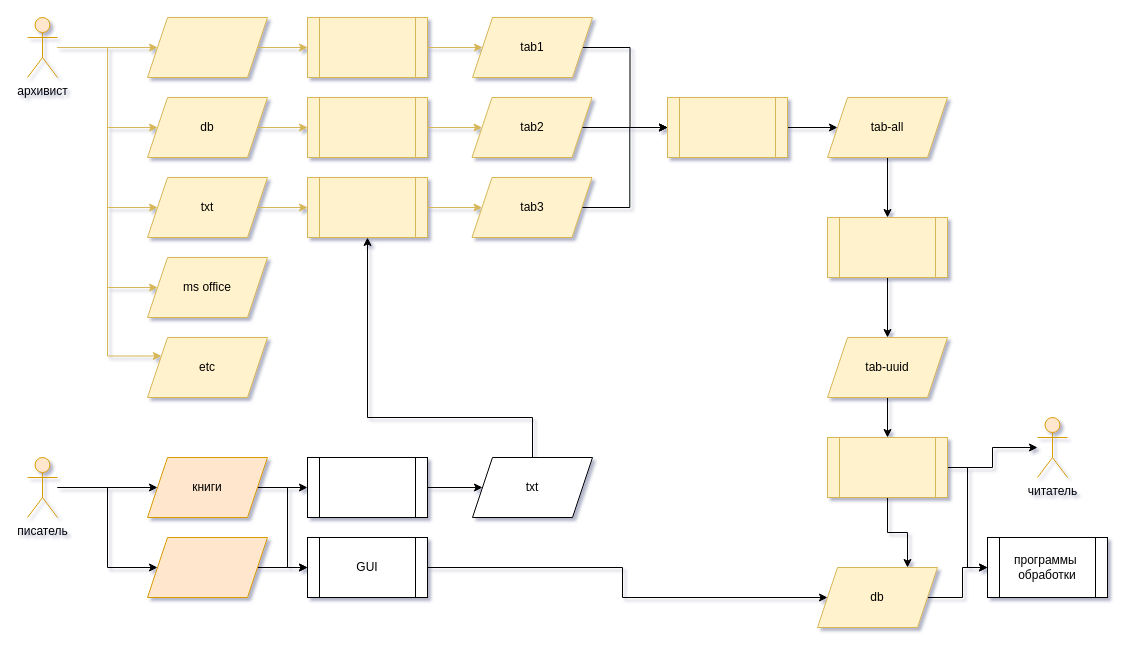
Some shapes in this 1131 by 651 pixel diagram are drawn without their labels. Here are the shapes that lost their labels. From the top down, the centre of each, then its label:
At point 207,47: "tab".
At point 367,47: "proc1.py".
At point 367,127: "proc2.py".
At point 727,127: "вручную, sh".
At point 367,207: "proc3.py".
At point 887,247: "uuids".
At point 367,487: "ручной ввод".
At point 887,467: "tab2db.py".
At point 207,567: "документы".
